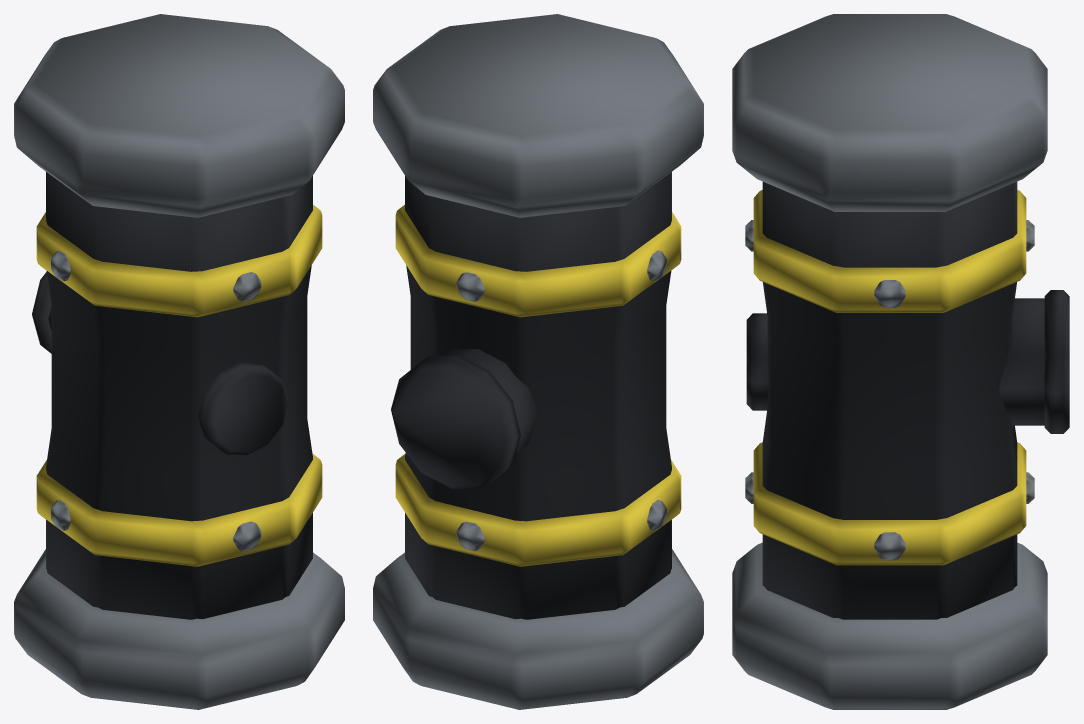
Rendered from hammer-head.glb.
3 renders of one model, left to right at view 1: azimuth 30°, elevation 25°; view 2: azimuth 150°, elevation 25°; view 3: azimuth 270°, elevation 25°, orthographic.
Parts seen in each view (by area): view 1: hammer_head; view 2: hammer_head; view 3: hammer_head.
Boxes of the visible parts, x1,y1,x2,y2 form: hammer_head: [14, 14, 344, 709]; hammer_head: [373, 14, 703, 709]; hammer_head: [732, 14, 1069, 709].
Size of the model in its own units: 0.4527 by 0.92 by 0.4844.
